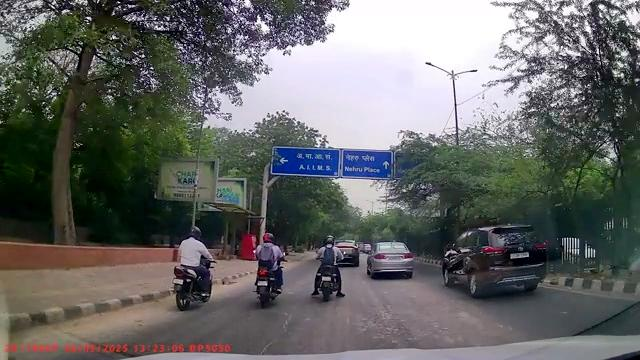motorcycle_with_helmet: (171, 224, 215, 311), (252, 231, 285, 308), (310, 234, 346, 302)
